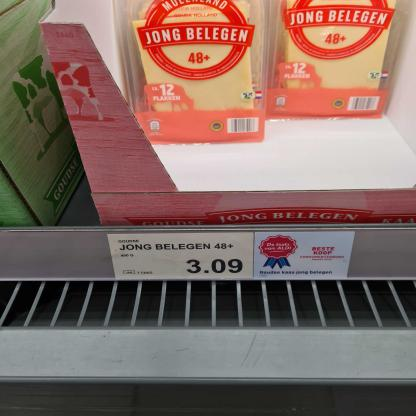prtg: (108, 234, 255, 281)
